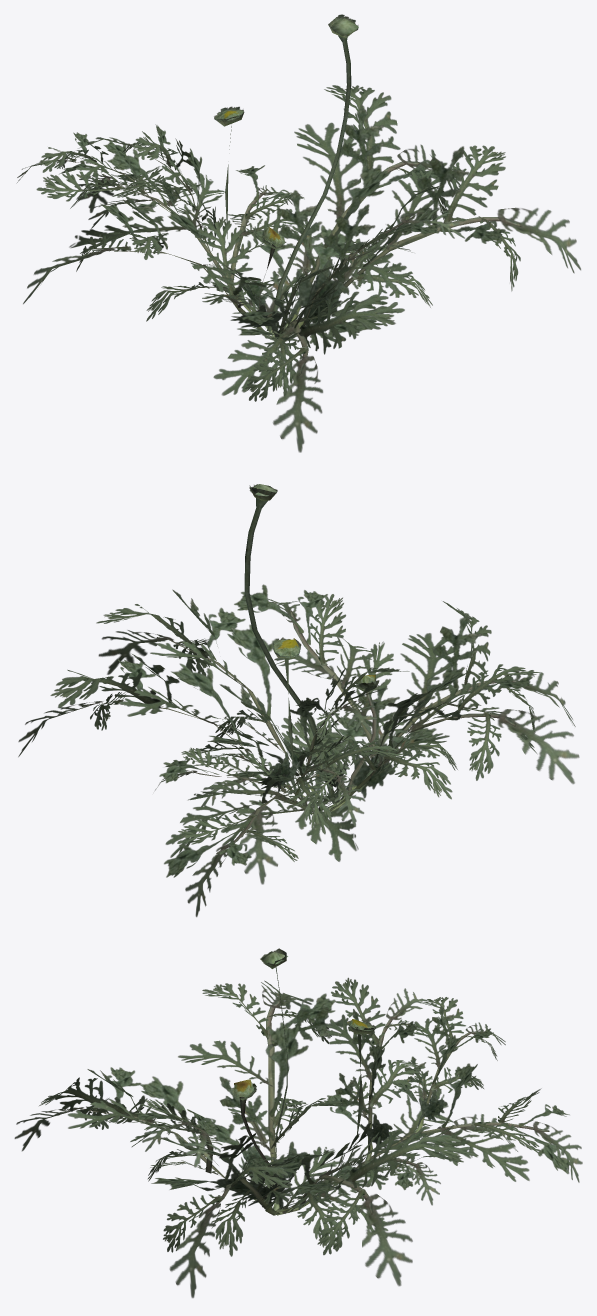
Rendered from nama_stinkkruid_d.glb.
3 views of the same model, one above another, from view 1: azimuth 30°, elevation 25°; view 2: azimuth 150°, elevation 25°; view 3: azimuth 270°, elevation 25° (orthographic). The views are drawn at different scales.
Visible parts, largest first — view 1: nama_stinkkruid_d; view 2: nama_stinkkruid_d; view 3: nama_stinkkruid_d.
Boxes of the visible parts, left/top/right/bottom form: nama_stinkkruid_d: left=17, top=14, right=580, bottom=452; nama_stinkkruid_d: left=18, top=484, right=579, bottom=916; nama_stinkkruid_d: left=14, top=948, right=582, bottom=1297.
Size of the model in its own units: 0.5686 by 0.3259 by 0.5661.
1 material, 1 textured.
